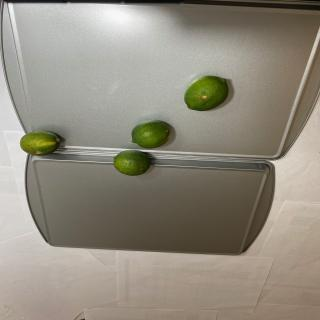Apple: (184, 75, 229, 111), (131, 120, 171, 148), (20, 130, 60, 156), (114, 150, 150, 176)
